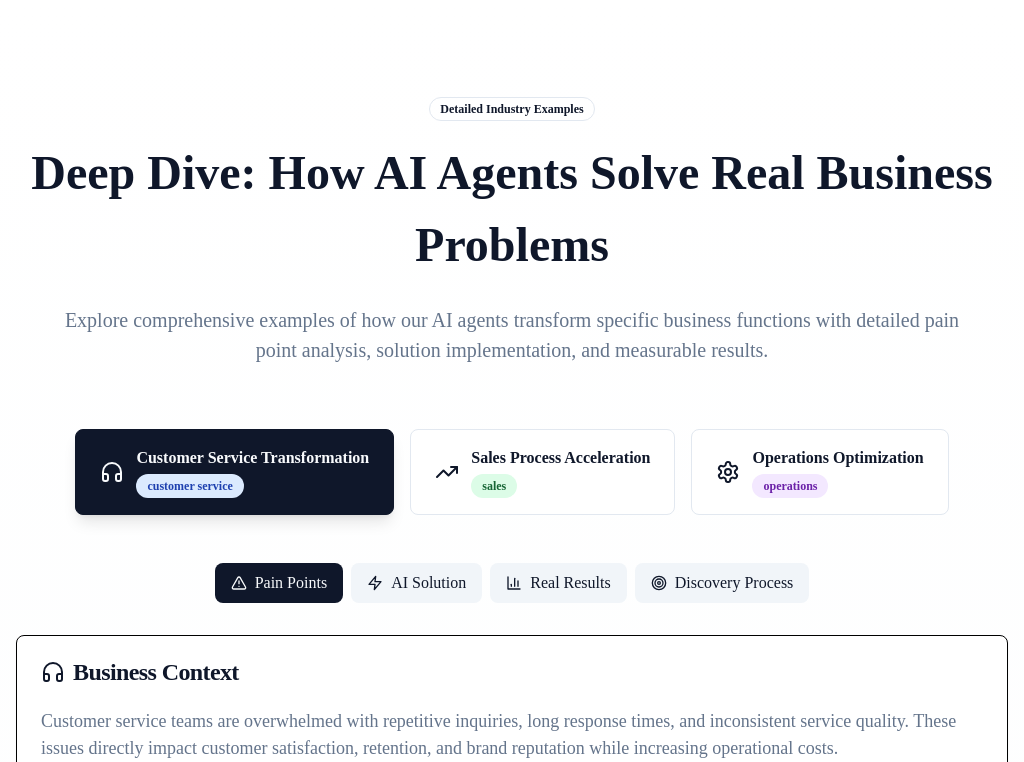
Test: DetailedIndustryExamples › displays real results when on results tab
This screenshot has width=1024, height=762.
// Click on Real Results tab
Click the button "Real Results": x=558, y=583 [490,563,627,603]
(page scrolled)
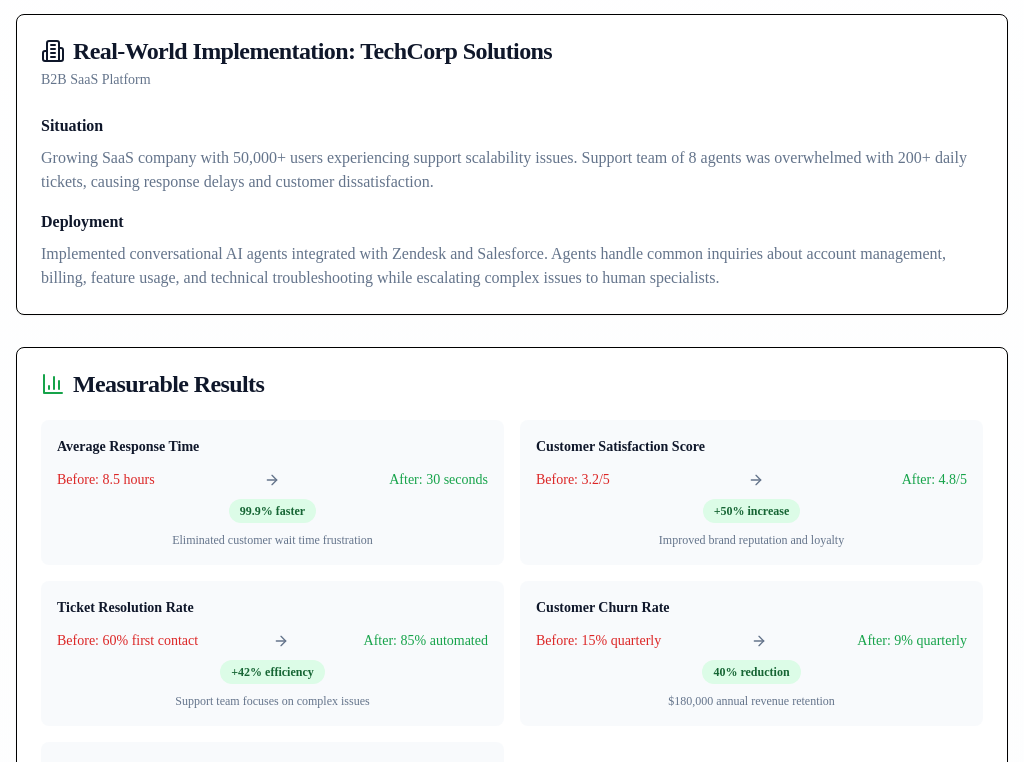
Now the text "Real-World Implementation: TechCorp Solutions" is shown, box [41,38,552,64]
Now the text "Measurable Results" is shown, box [41,371,264,397]
